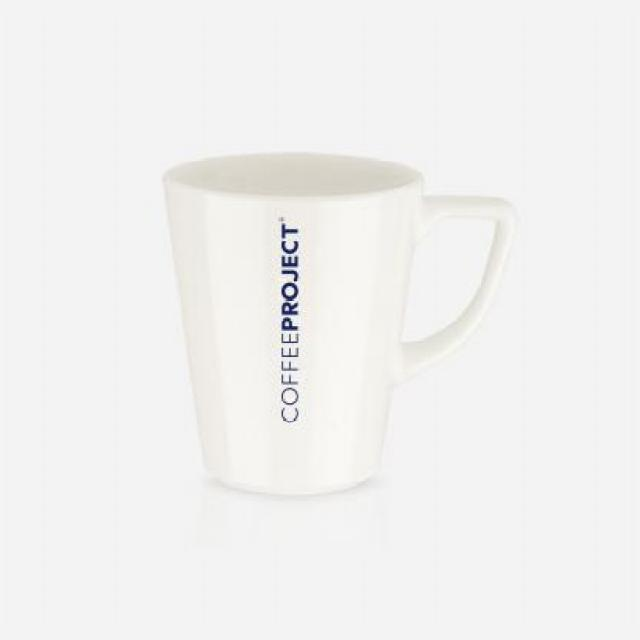taza: (154, 126, 516, 506)
